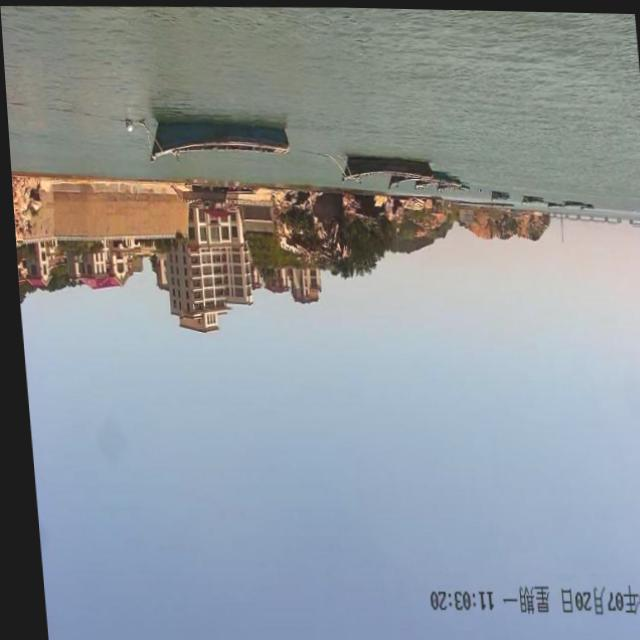ship2: (147, 118, 287, 159), (339, 151, 431, 180), (544, 200, 564, 241), (487, 187, 509, 199), (558, 197, 583, 205), (519, 193, 541, 202)
